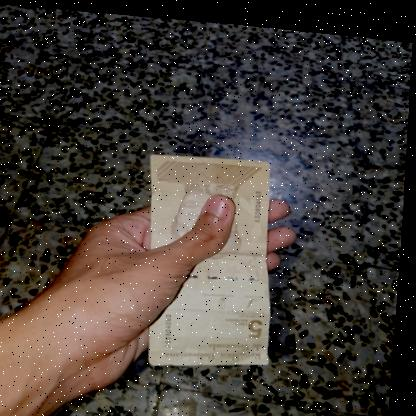five-front-vef: (140, 145, 286, 371)
